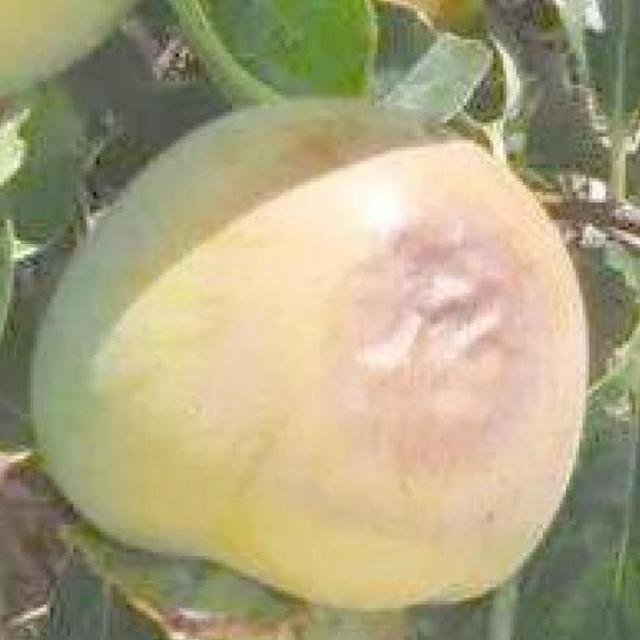Sunscald Fruit: (200, 100, 363, 329)
